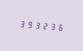nine: (25, 18, 32, 30)
six: (58, 21, 65, 33)
three: (17, 17, 24, 29), (50, 20, 57, 32), (34, 19, 41, 30)
two: (42, 20, 49, 31)
